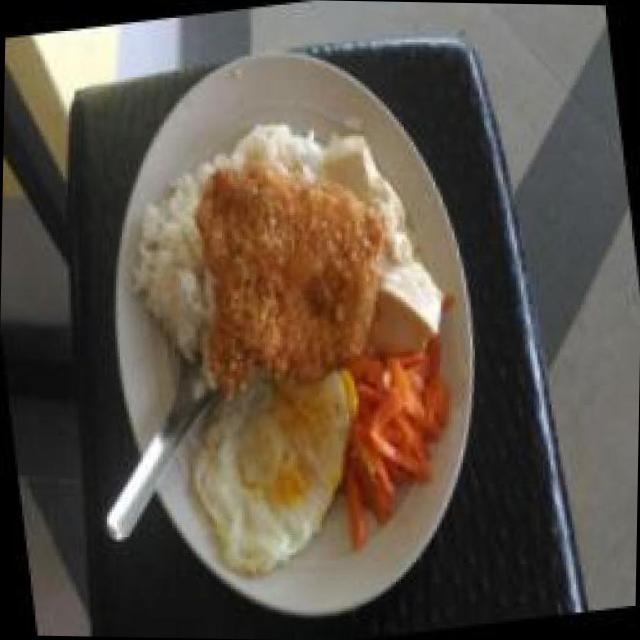carrot_eggs: (326, 332, 468, 542)
fried_chicken: (180, 142, 404, 406)
fried_eggs: (180, 363, 372, 576)
rice: (127, 174, 210, 348)
